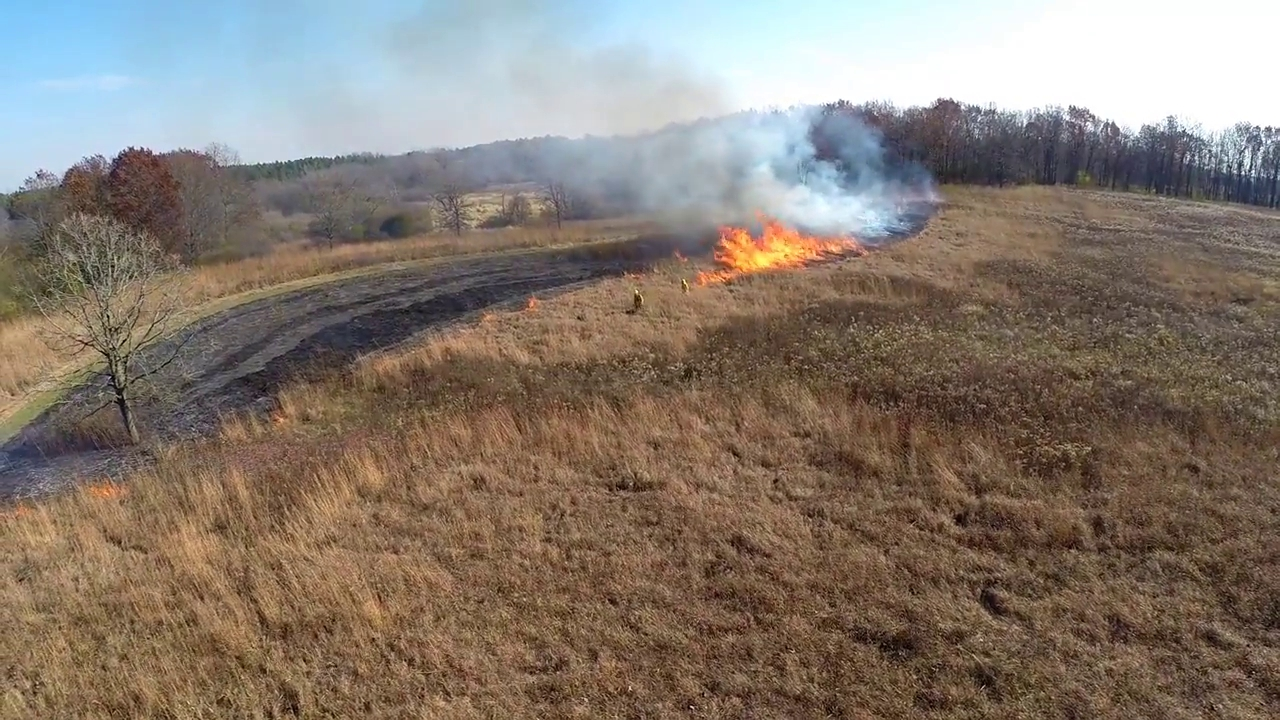forest_fire: (696, 214, 864, 284)
